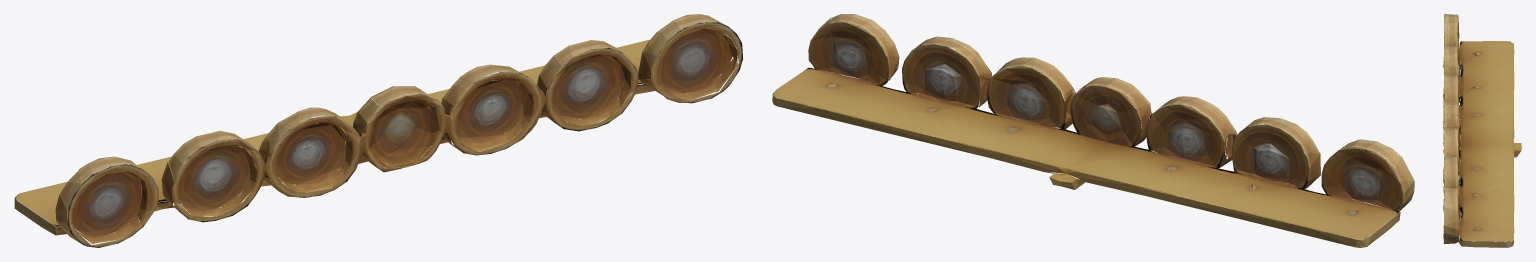
The model's file is footlights.glb.
3 views of the same model, side by side, from view 1: azimuth 30°, elevation 25°; view 2: azimuth 150°, elevation 25°; view 3: azimuth 270°, elevation 25° (orthographic). The views are drawn at different scales.
Visible parts, largest first — view 1: geometry_0.005; view 2: geometry_0.005; view 3: geometry_0.005.
Part boxes in pixels (<box>): geometry_0.005: <box>14,14,743,247</box>; geometry_0.005: <box>772,14,1414,247</box>; geometry_0.005: <box>1443,14,1521,247</box>.
Size of the model in its own units: 2.12 by 0.2422 by 0.3511.
Materials: 1 (1 with a texture image).
